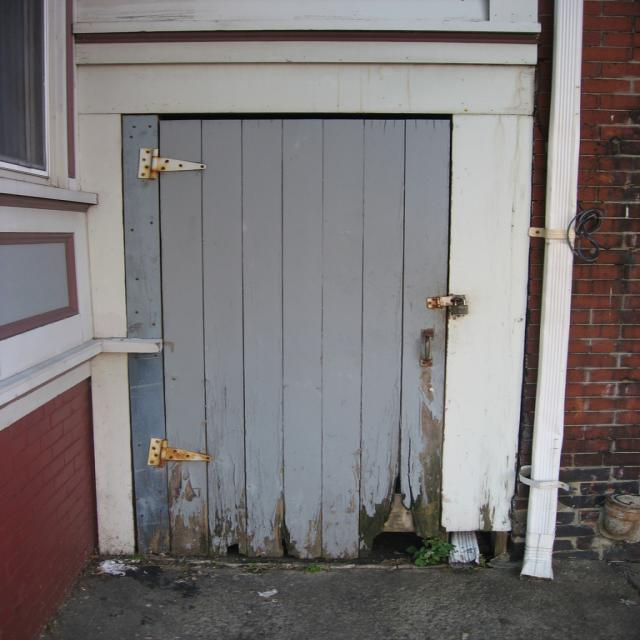door_local: (122, 111, 460, 564)
